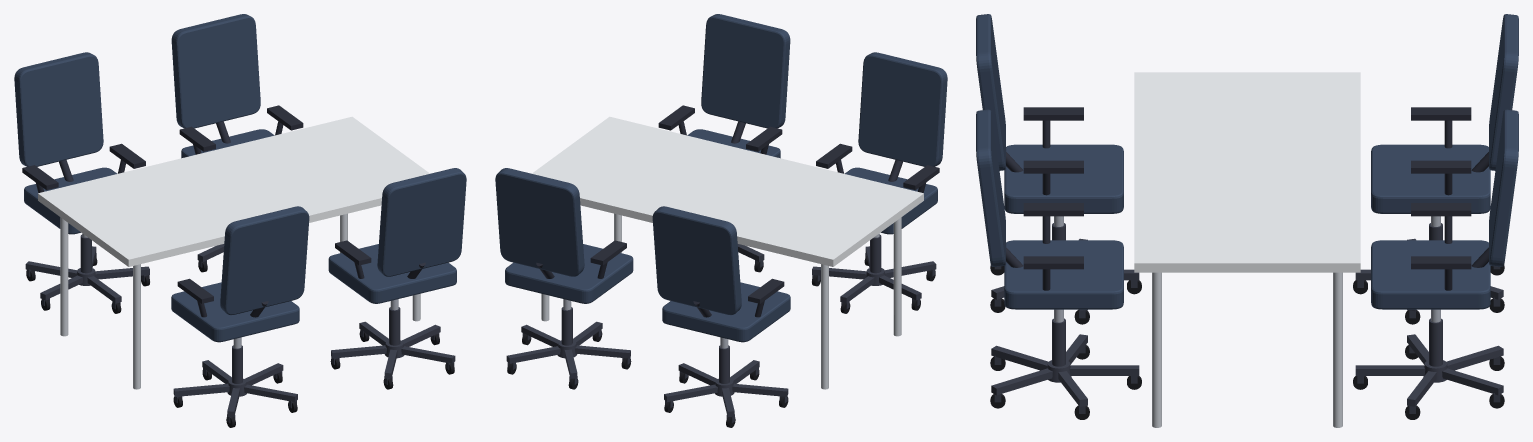
3 renders of one model, left to right at view 1: azimuth 30°, elevation 25°; view 2: azimuth 150°, elevation 25°; view 3: azimuth 270°, elevation 25°, orthographic. The views are drawn at different scales.
Parts seen in each view (by area): view 1: chair_fabric, white, dark_steel, plastic_dark, chrome, rubber; view 2: chair_fabric, white, dark_steel, plastic_dark, chrome, rubber; view 3: white, chair_fabric, dark_steel, plastic_dark, chrome, rubber.
Boxes of the visible parts, left/top/right/bottom form: chair_fabric: left=14, top=14, right=466, bottom=342; white: left=38, top=116, right=429, bottom=266; dark_steel: left=25, top=234, right=455, bottom=423; plastic_dark: left=22, top=105, right=425, bottom=317; chrome: left=60, top=213, right=420, bottom=389; rubber: left=26, top=256, right=454, bottom=427; chair_fabric: left=495, top=14, right=947, bottom=342; white: left=532, top=116, right=923, bottom=266; dark_steel: left=506, top=234, right=936, bottom=423; plastic_dark: left=536, top=105, right=939, bottom=317; chrome: left=541, top=213, right=901, bottom=389; rubber: left=507, top=256, right=935, bottom=427; white: left=1134, top=72, right=1360, bottom=272; chair_fabric: left=976, top=14, right=1518, bottom=309; dark_steel: left=991, top=223, right=1503, bottom=413; plastic_dark: left=1006, top=107, right=1488, bottom=290; chrome: left=1152, top=272, right=1342, bottom=427; rubber: left=990, top=265, right=1504, bottom=419.
Bounding box in the file's own units: 1.8 × 1.14 × 2.16.
